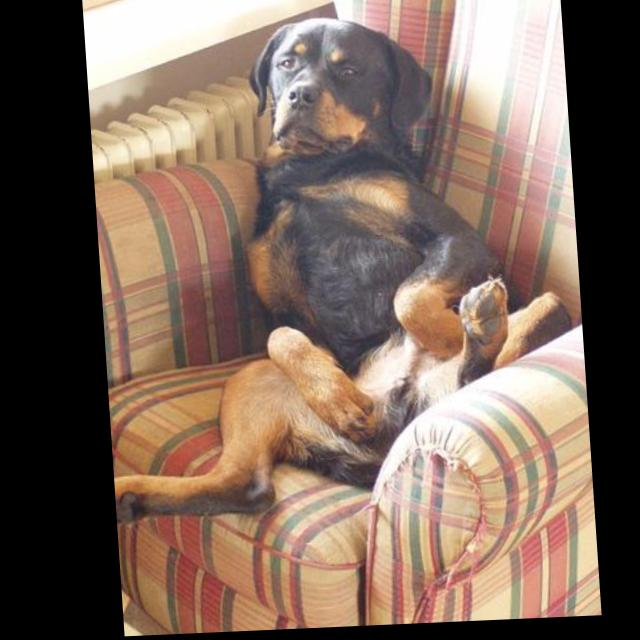rottweiler: (84, 11, 577, 527)
